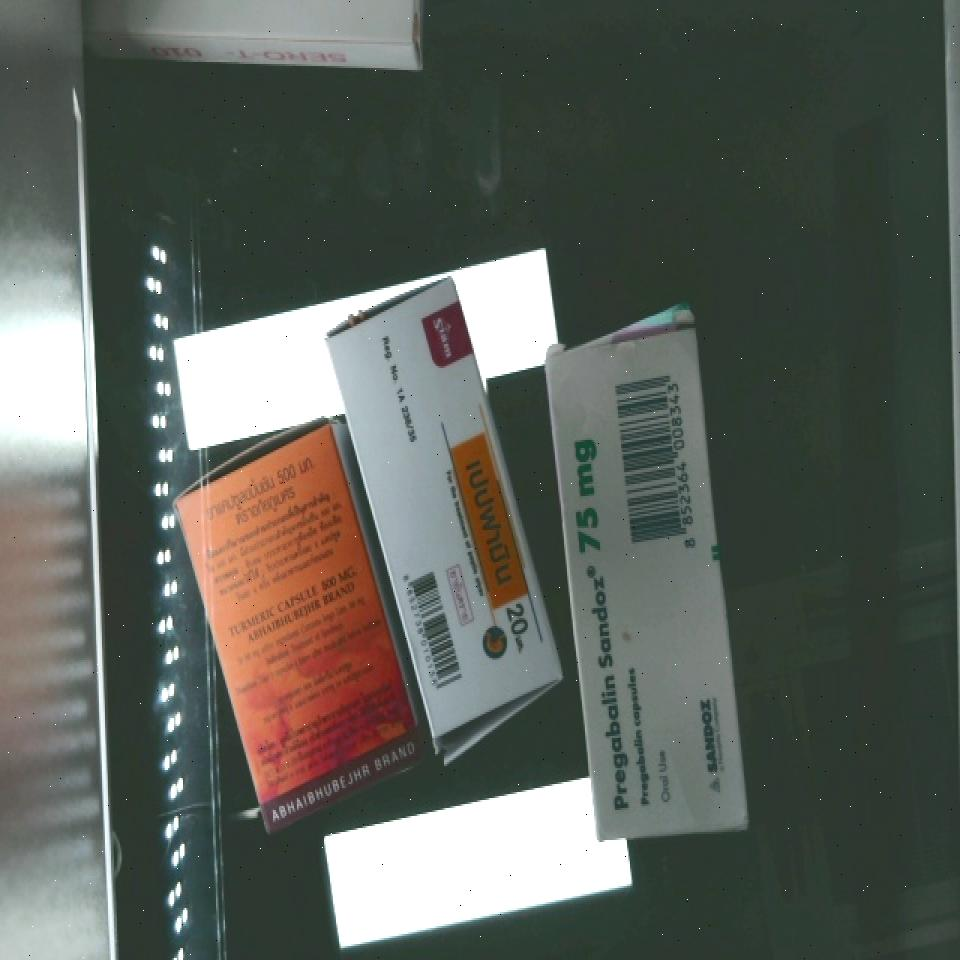medicine_box: (310, 278, 574, 756), (166, 424, 434, 836), (543, 318, 745, 842), (82, 3, 416, 65)
medicine_label_obb: (552, 413, 639, 840), (435, 418, 553, 672)
